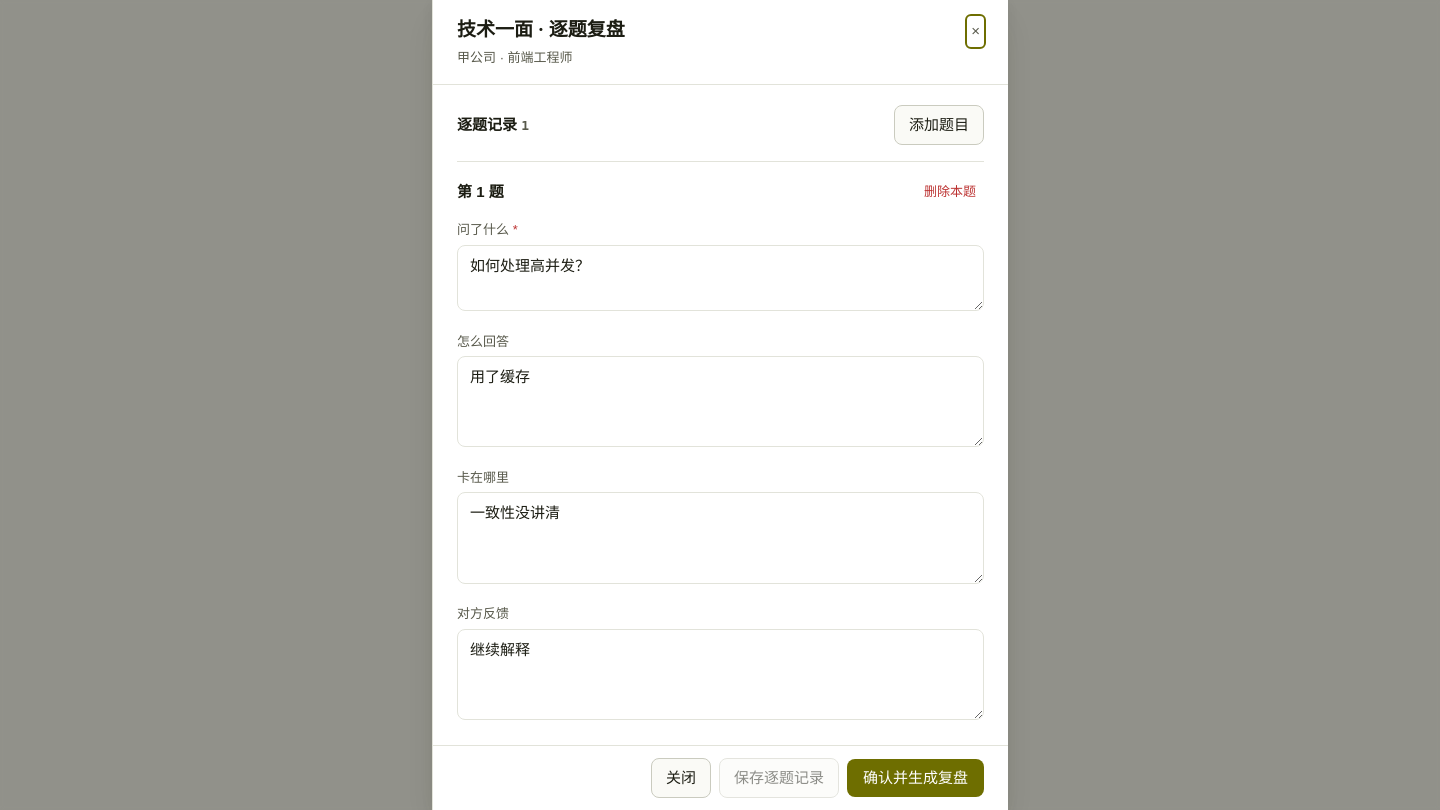
Test: 当前输入摘要变化后允许重新生成，使用新摘要并保留旧结果到生成完成
Click the button "确认并生成复盘": {"x": 916, "y": 778} x1=847 y1=759 x2=984 y2=797
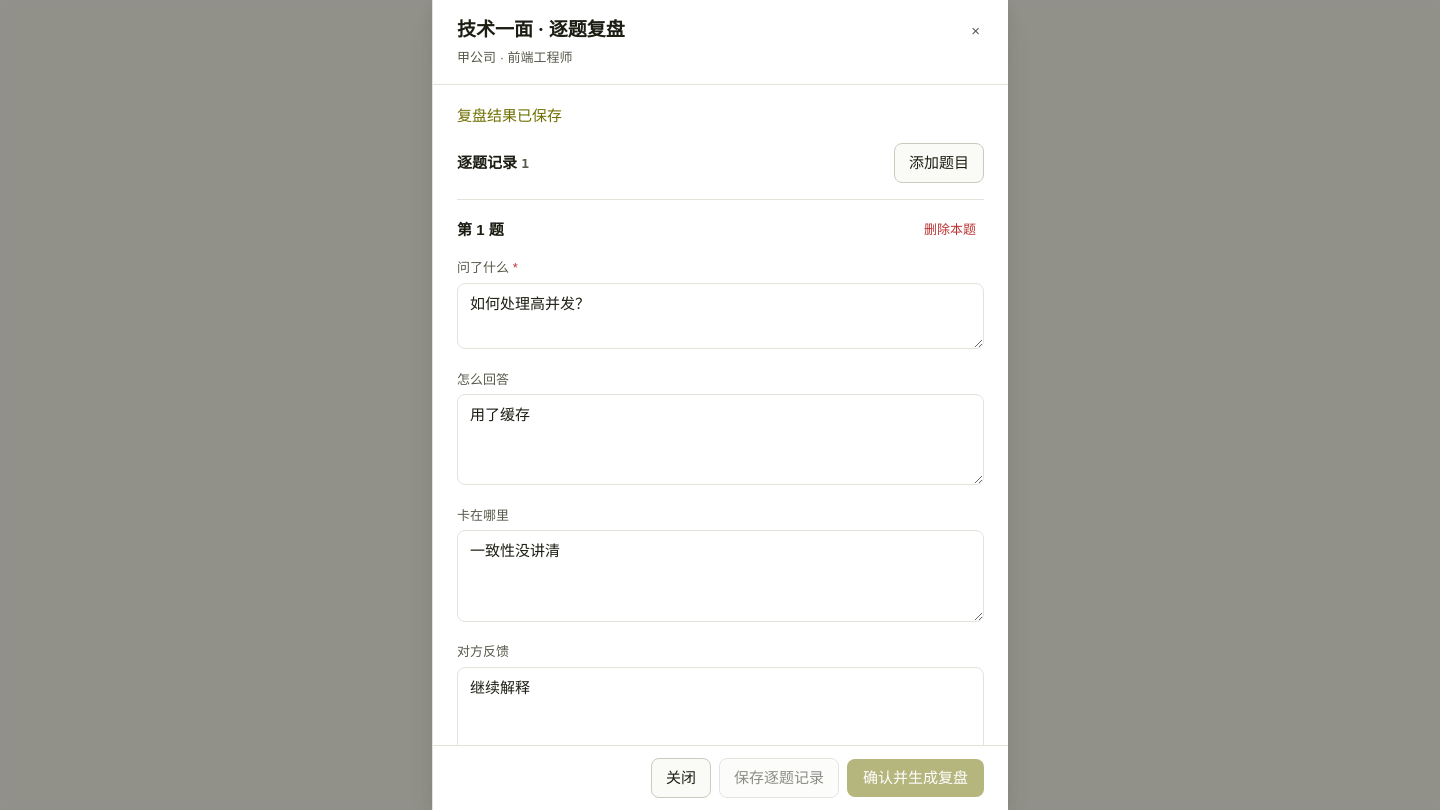
Expected: the button "确认并生成复盘" is disabled, x1=847 y1=759 x2=984 y2=797
